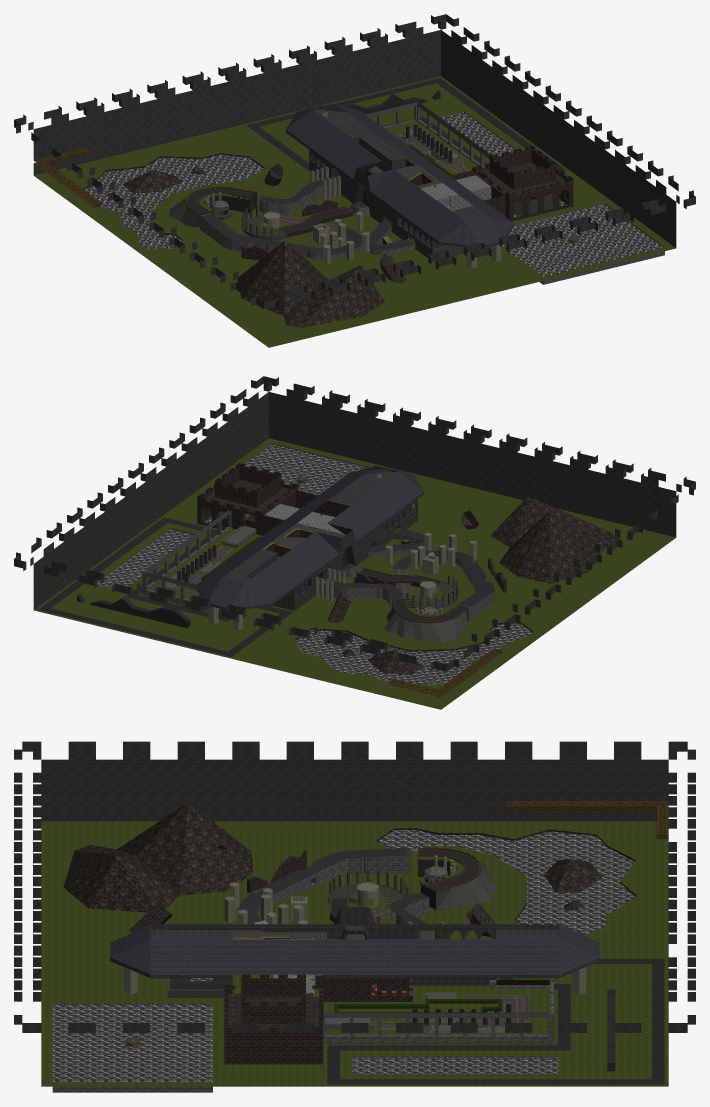
3 renders of one model, top to bottom at view 1: azimuth 30°, elevation 25°; view 2: azimuth 150°, elevation 25°; view 3: azimuth 270°, elevation 25°, orthographic. The views are drawn at different scales.
Parts seen in each view (by area): view 1: AutoSave_AutoSave_cot_minimap-SKP--outside_brick, AutoSave_AutoSave_cot_minimap-SKP--Grass, AutoSave_AutoSave_cot_minimap-SKP--Water, AutoSave_AutoSave_cot_minimap-SKP--roof, AutoSave_AutoSave_cot_minimap-SKP--mountain, AutoSave_AutoSave_cot_minimap-SKP--Castle_wall, AutoSave_AutoSave_cot_minimap-SKP--Moss_Brick, AutoSave_AutoSave_cot_minimap-SKP--Dark_BrickG, AutoSave_AutoSave_cot_minimap-SKP--Castle_Brick, AutoSave_AutoSave_cot_minimap-SKP--Brick, AutoSave_AutoSave_cot_minimap-SKP--Concrete, AutoSave_AutoSave_cot_minimap-SKP--outside_concrete (+3 smaller); view 2: AutoSave_AutoSave_cot_minimap-SKP--outside_brick, AutoSave_AutoSave_cot_minimap-SKP--Grass, AutoSave_AutoSave_cot_minimap-SKP--Water, AutoSave_AutoSave_cot_minimap-SKP--roof, AutoSave_AutoSave_cot_minimap-SKP--mountain, AutoSave_AutoSave_cot_minimap-SKP--Castle_wall, AutoSave_AutoSave_cot_minimap-SKP--Moss_Brick, AutoSave_AutoSave_cot_minimap-SKP--Castle_Brick, AutoSave_AutoSave_cot_minimap-SKP--Dark_BrickG, AutoSave_AutoSave_cot_minimap-SKP--Brick, AutoSave_AutoSave_cot_minimap-SKP--Concrete, AutoSave_AutoSave_cot_minimap-SKP--outside_concrete (+4 smaller); view 3: AutoSave_AutoSave_cot_minimap-SKP--Grass, AutoSave_AutoSave_cot_minimap-SKP--outside_brick, AutoSave_AutoSave_cot_minimap-SKP--Water, AutoSave_AutoSave_cot_minimap-SKP--roof, AutoSave_AutoSave_cot_minimap-SKP--mountain, AutoSave_AutoSave_cot_minimap-SKP--Castle_wall, AutoSave_AutoSave_cot_minimap-SKP--Dark_BrickG, AutoSave_AutoSave_cot_minimap-SKP--Moss_Brick, AutoSave_AutoSave_cot_minimap-SKP--Castle_Brick, AutoSave_AutoSave_cot_minimap-SKP--Brick, AutoSave_AutoSave_cot_minimap-SKP--Concrete, AutoSave_AutoSave_cot_minimap-SKP--outside_concrete (+7 smaller).
Boxes of the visible parts, x1,y1,x2,y2 form: AutoSave_AutoSave_cot_minimap-SKP--outside_brick: [14, 14, 695, 309]; AutoSave_AutoSave_cot_minimap-SKP--Grass: [34, 76, 675, 347]; AutoSave_AutoSave_cot_minimap-SKP--Water: [84, 112, 662, 276]; AutoSave_AutoSave_cot_minimap-SKP--roof: [285, 103, 513, 244]; AutoSave_AutoSave_cot_minimap-SKP--mountain: [83, 153, 384, 327]; AutoSave_AutoSave_cot_minimap-SKP--Castle_wall: [241, 145, 573, 282]; AutoSave_AutoSave_cot_minimap-SKP--Moss_Brick: [187, 78, 566, 244]; AutoSave_AutoSave_cot_minimap-SKP--Dark_BrickG: [200, 102, 664, 284]; AutoSave_AutoSave_cot_minimap-SKP--Castle_Brick: [285, 106, 513, 257]; AutoSave_AutoSave_cot_minimap-SKP--Brick: [205, 112, 501, 267]; AutoSave_AutoSave_cot_minimap-SKP--Concrete: [169, 134, 553, 256]; AutoSave_AutoSave_cot_minimap-SKP--outside_concrete: [201, 177, 413, 254]; AutoSave_AutoSave_cot_minimap-SKP--outside_brick: [14, 376, 695, 671]; AutoSave_AutoSave_cot_minimap-SKP--Grass: [34, 438, 675, 709]; AutoSave_AutoSave_cot_minimap-SKP--Water: [97, 444, 532, 686]; AutoSave_AutoSave_cot_minimap-SKP--roof: [196, 465, 424, 606]; AutoSave_AutoSave_cot_minimap-SKP--mountain: [294, 496, 620, 675]; AutoSave_AutoSave_cot_minimap-SKP--Castle_wall: [197, 463, 506, 622]; AutoSave_AutoSave_cot_minimap-SKP--Moss_Brick: [38, 517, 463, 656]; AutoSave_AutoSave_cot_minimap-SKP--Castle_Brick: [196, 468, 424, 610]; AutoSave_AutoSave_cot_minimap-SKP--Dark_BrickG: [97, 443, 494, 621]; AutoSave_AutoSave_cot_minimap-SKP--Brick: [166, 474, 476, 629]; AutoSave_AutoSave_cot_minimap-SKP--Concrete: [176, 507, 467, 642]; AutoSave_AutoSave_cot_minimap-SKP--outside_concrete: [319, 529, 494, 606]; AutoSave_AutoSave_cot_minimap-SKP--Grass: [41, 821, 668, 1086]; AutoSave_AutoSave_cot_minimap-SKP--outside_brick: [14, 741, 695, 1032]; AutoSave_AutoSave_cot_minimap-SKP--Water: [52, 830, 635, 1081]; AutoSave_AutoSave_cot_minimap-SKP--roof: [110, 908, 599, 974]; AutoSave_AutoSave_cot_minimap-SKP--mountain: [63, 802, 636, 920]; AutoSave_AutoSave_cot_minimap-SKP--Castle_wall: [129, 850, 495, 1064]; AutoSave_AutoSave_cot_minimap-SKP--Dark_BrickG: [52, 847, 558, 1092]; AutoSave_AutoSave_cot_minimap-SKP--Moss_Brick: [327, 850, 664, 1084]; AutoSave_AutoSave_cot_minimap-SKP--Castle_Brick: [110, 907, 599, 985]; AutoSave_AutoSave_cot_minimap-SKP--Brick: [123, 855, 586, 1032]; AutoSave_AutoSave_cot_minimap-SKP--Concrete: [168, 849, 514, 1026]; AutoSave_AutoSave_cot_minimap-SKP--outside_concrete: [238, 847, 428, 924].
Size of the model in its own units: 168750 by 23466 by 168750.
34 materials, 34 textured.
